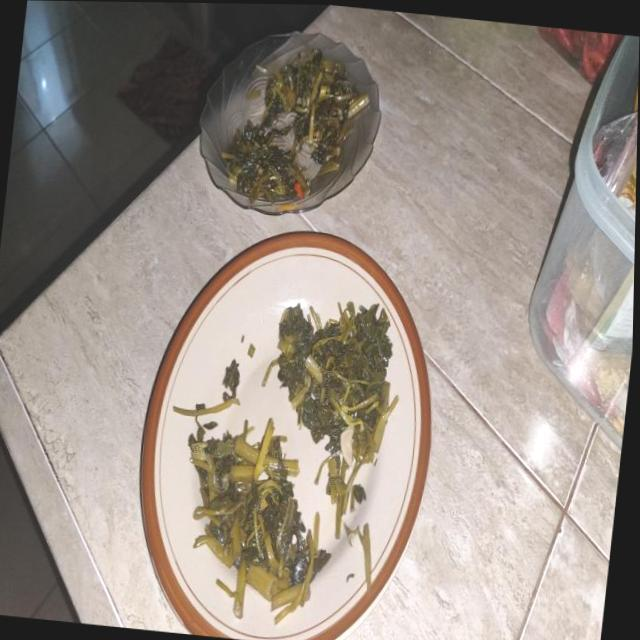tumis_kangkung: (188, 418, 330, 624), (278, 302, 398, 512), (262, 49, 360, 154), (222, 120, 309, 204)
